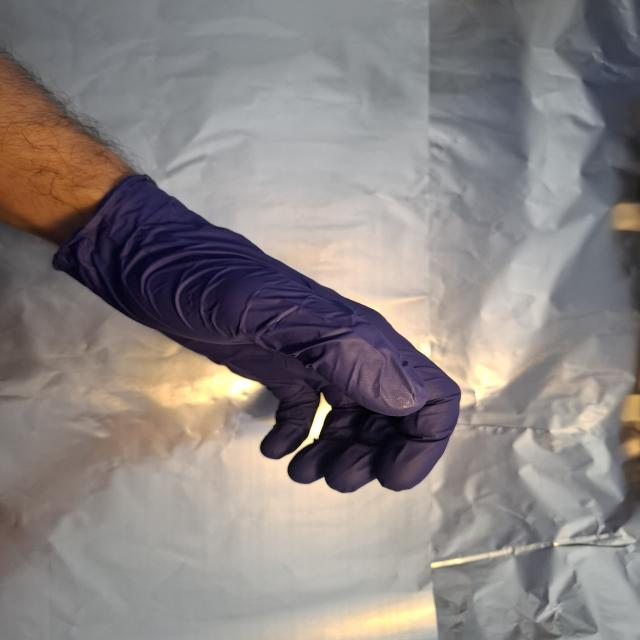glove_on: (51, 172, 466, 497)
